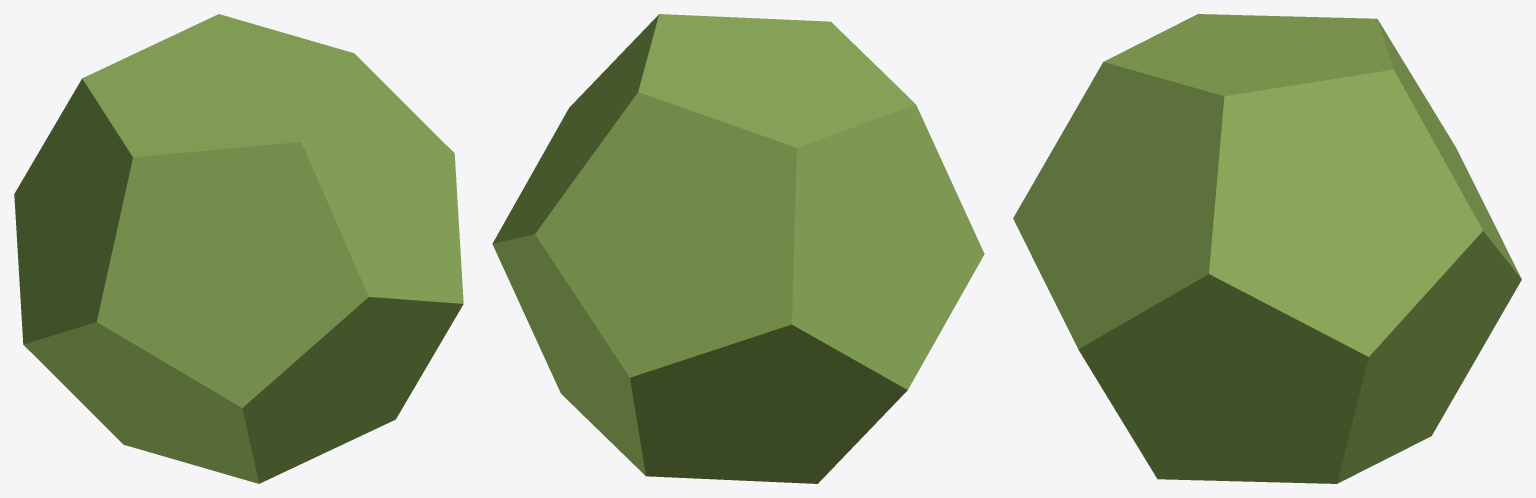
The model's file is canopy-8.glb.
3 renders of one model, left to right at view 1: azimuth 30°, elevation 25°; view 2: azimuth 150°, elevation 25°; view 3: azimuth 270°, elevation 25°, orthographic. The views are drawn at different scales.
Parts seen in each view (by area): view 1: Canopy 8; view 2: Canopy 8; view 3: Canopy 8.
Boxes of the visible parts, x1,y1,x2,y2 form: Canopy 8: (14, 14, 463, 483); Canopy 8: (492, 14, 984, 483); Canopy 8: (1013, 14, 1521, 483).
Bounding box in the file's own units: 20.63 × 19.51 × 22.11.
